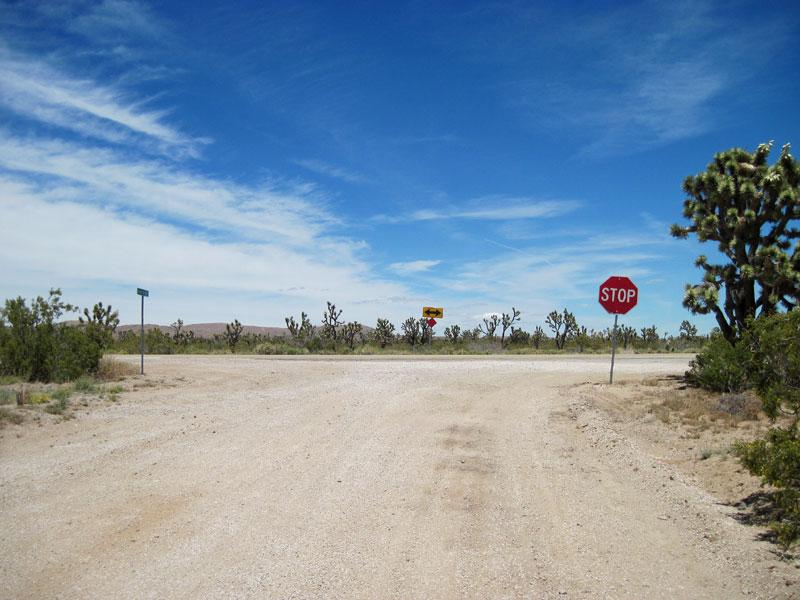Pole: (609, 314, 620, 382), (140, 296, 145, 375), (430, 326, 433, 352)
Sign: (597, 276, 640, 314)
